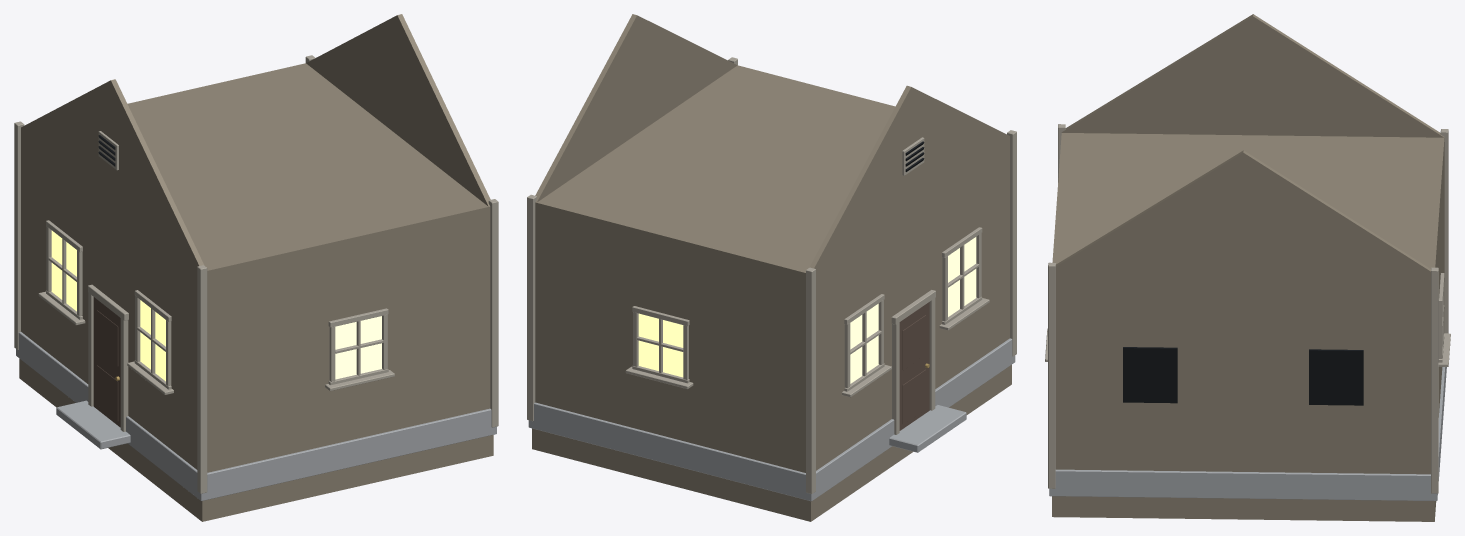
Rendered from house5_walls.glb.
The picture shows the model from 3 angles, left to right: view 1: azimuth 30°, elevation 25°; view 2: azimuth 150°, elevation 25°; view 3: azimuth 270°, elevation 25°; orthographic projection.
Parts seen in each view (by area): view 1: house5_walls; view 2: house5_walls; view 3: house5_walls.
Part boxes in pixels (left/top/right/bottom): house5_walls: left=14, top=14, right=498, bottom=521; house5_walls: left=527, top=14, right=1016, bottom=521; house5_walls: left=1045, top=14, right=1450, bottom=521.
Size of the model in its own units: 6.87 by 7.4 by 7.42.
